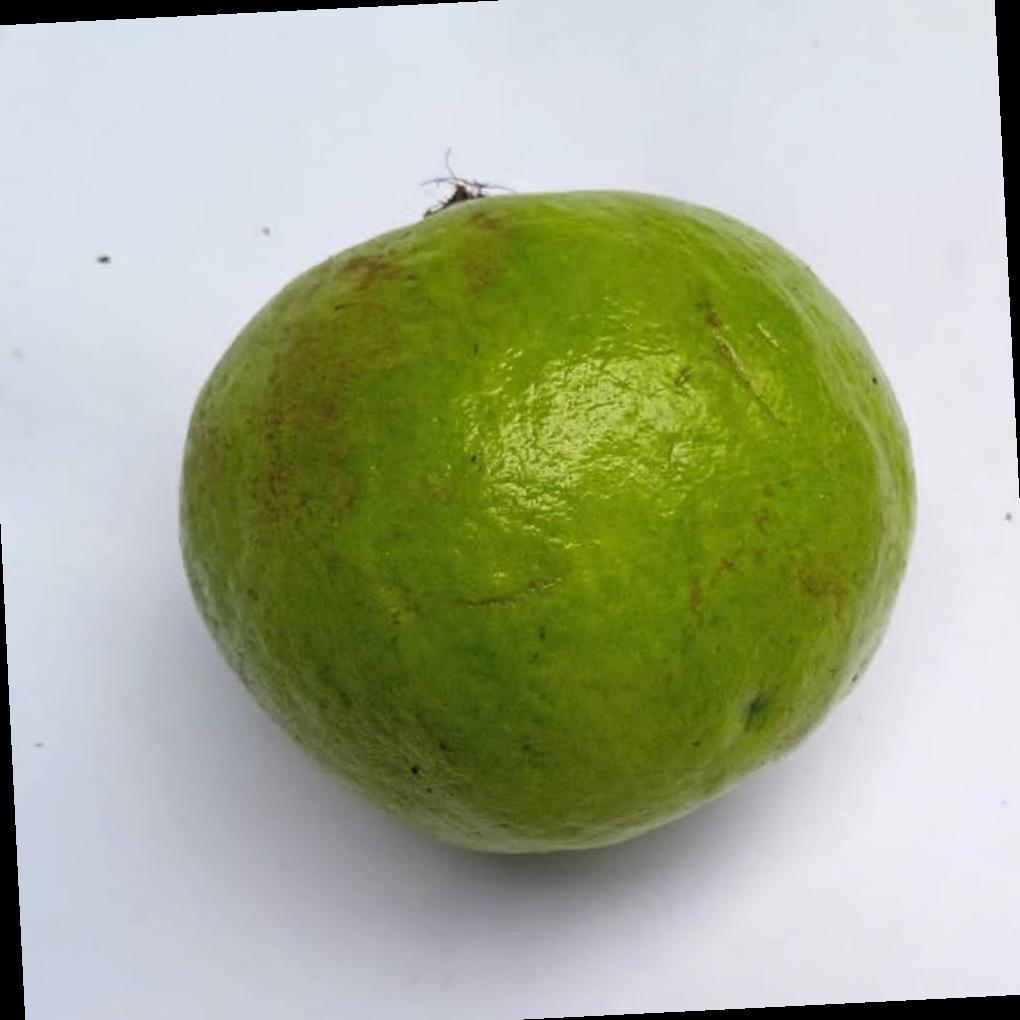FreshGuava: (176, 190, 918, 860)
